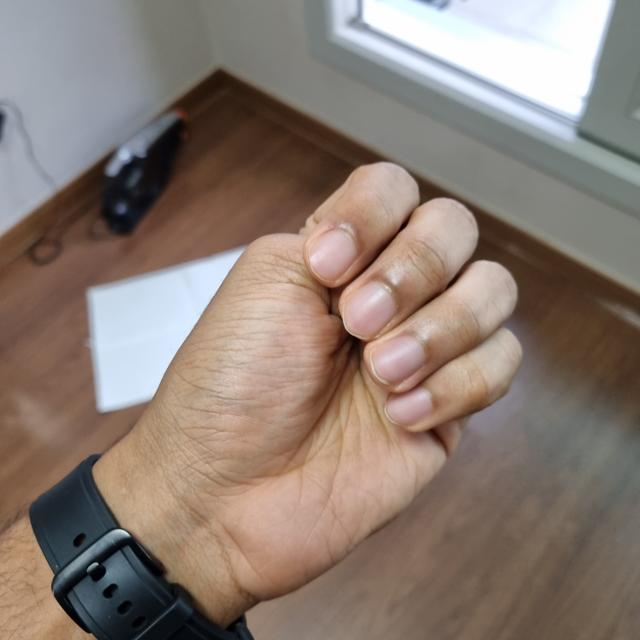Rock: (101, 163, 514, 591)
